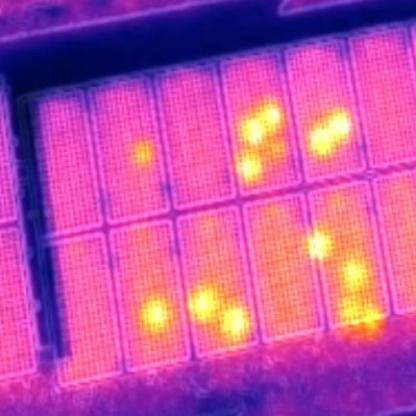Defects: (224, 312, 248, 346), (196, 290, 221, 322), (143, 302, 169, 330), (343, 296, 375, 318), (347, 266, 373, 292), (243, 115, 263, 139), (333, 112, 348, 138), (314, 129, 331, 151), (241, 157, 258, 178), (263, 106, 276, 125)
